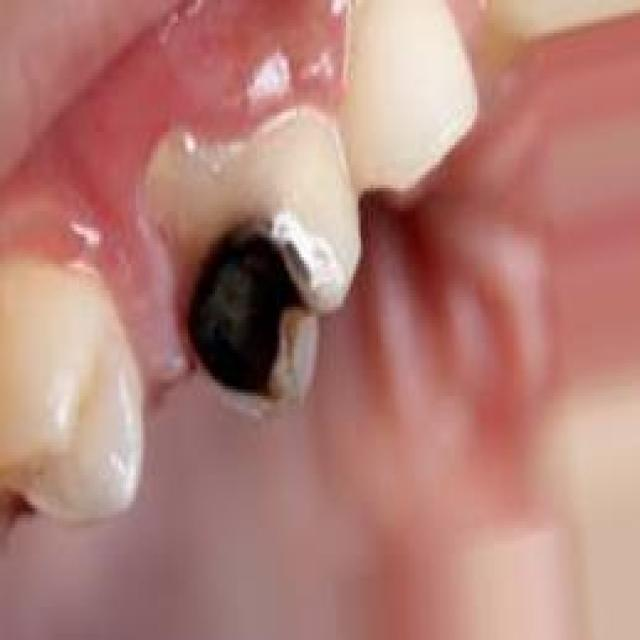caries: (148, 138, 358, 434)
